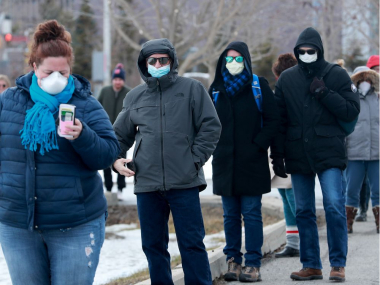Person: (1, 20, 120, 285), (120, 38, 221, 285), (274, 27, 360, 282), (220, 41, 272, 282)
